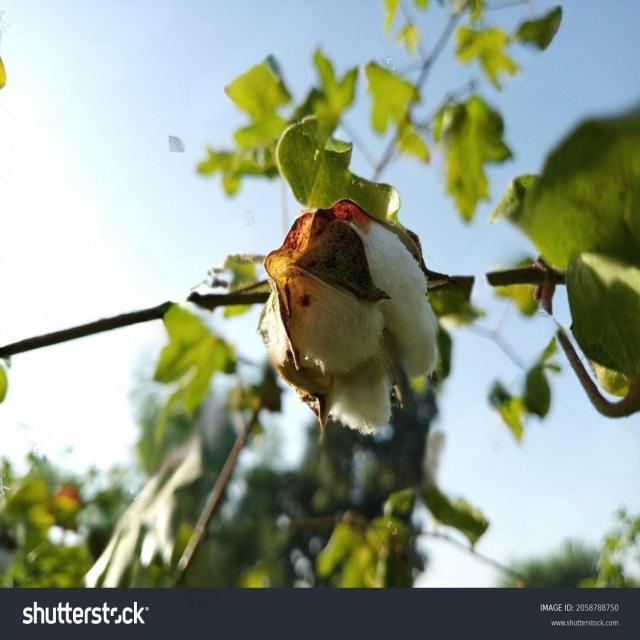Leaf: (247, 185, 451, 449)
